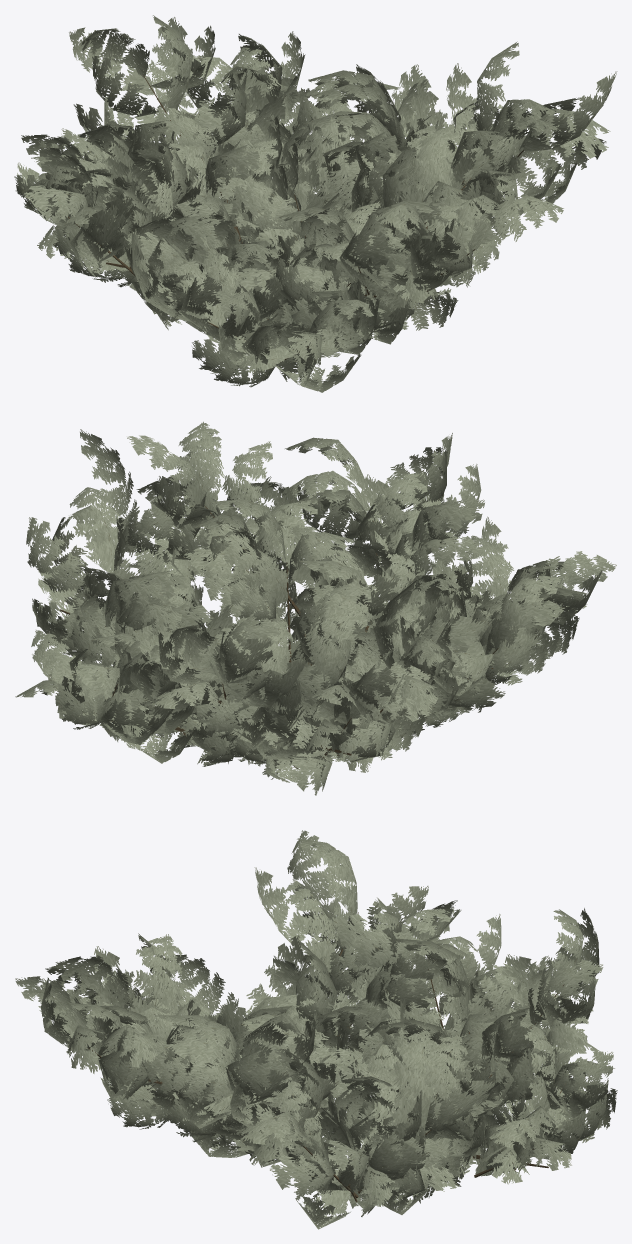
File: SM_CN_Sage_A.glb
The picture shows the model from 3 angles, top to bottom: view 1: azimuth 30°, elevation 25°; view 2: azimuth 150°, elevation 25°; view 3: azimuth 270°, elevation 25°; orthographic projection. The views are drawn at different scales.
Parts seen in each view (by area): view 1: SM_CN_Sage_A; view 2: SM_CN_Sage_A; view 3: SM_CN_Sage_A.
Part boxes in pixels (x1,y1,x2,y2): SM_CN_Sage_A: (14, 15, 617, 392); SM_CN_Sage_A: (15, 421, 616, 795); SM_CN_Sage_A: (15, 830, 617, 1229).
Size of the model in its own units: 1 by 0.45 by 0.9366.
2 materials, 2 textured.
